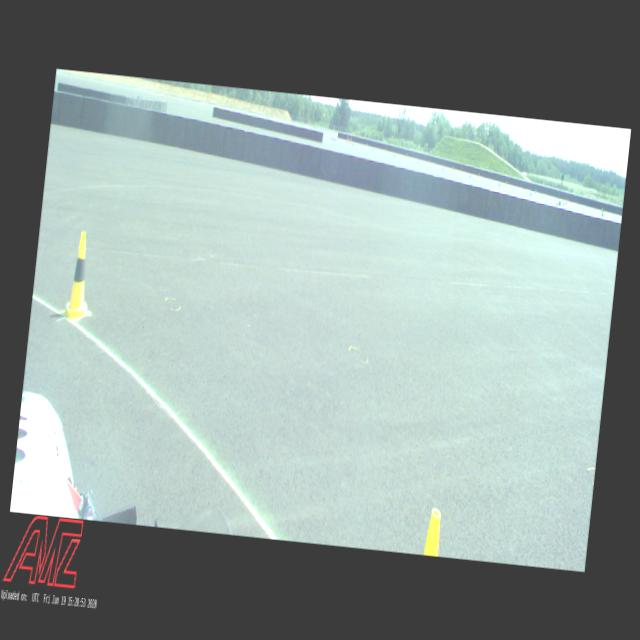yellow_cone: (61, 230, 98, 320)
